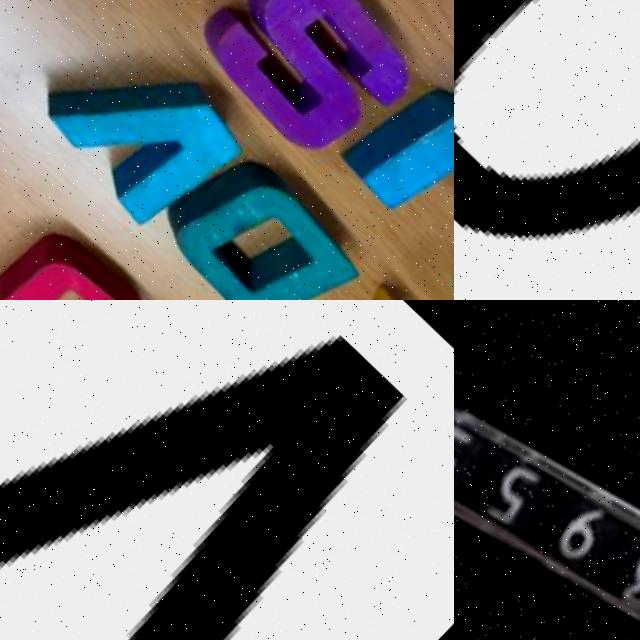0: (454, 0, 640, 300)
3: (606, 543, 640, 630)
5: (471, 457, 556, 542), (454, 414, 491, 499)
9: (543, 498, 627, 583)
D: (150, 127, 390, 300)
J: (330, 49, 454, 294)
O: (0, 196, 183, 300)
S: (178, 0, 422, 182)
V: (0, 300, 454, 640), (13, 2, 275, 265)
